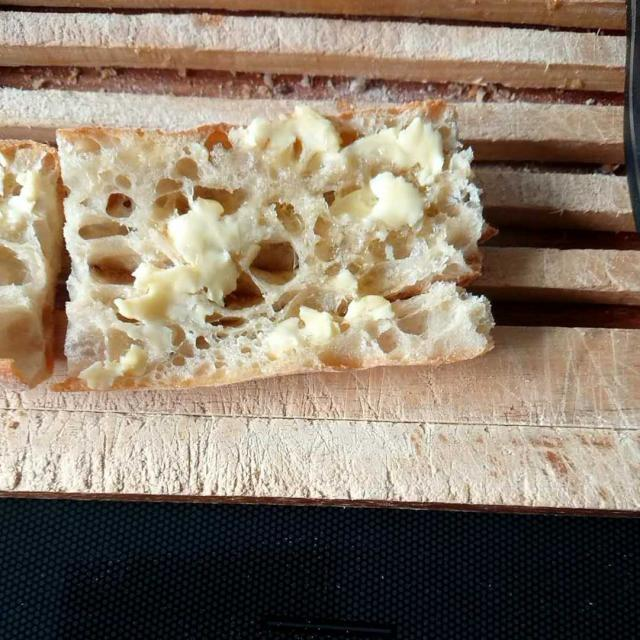bread: (20, 108, 491, 384)
butter: (108, 118, 511, 381)
